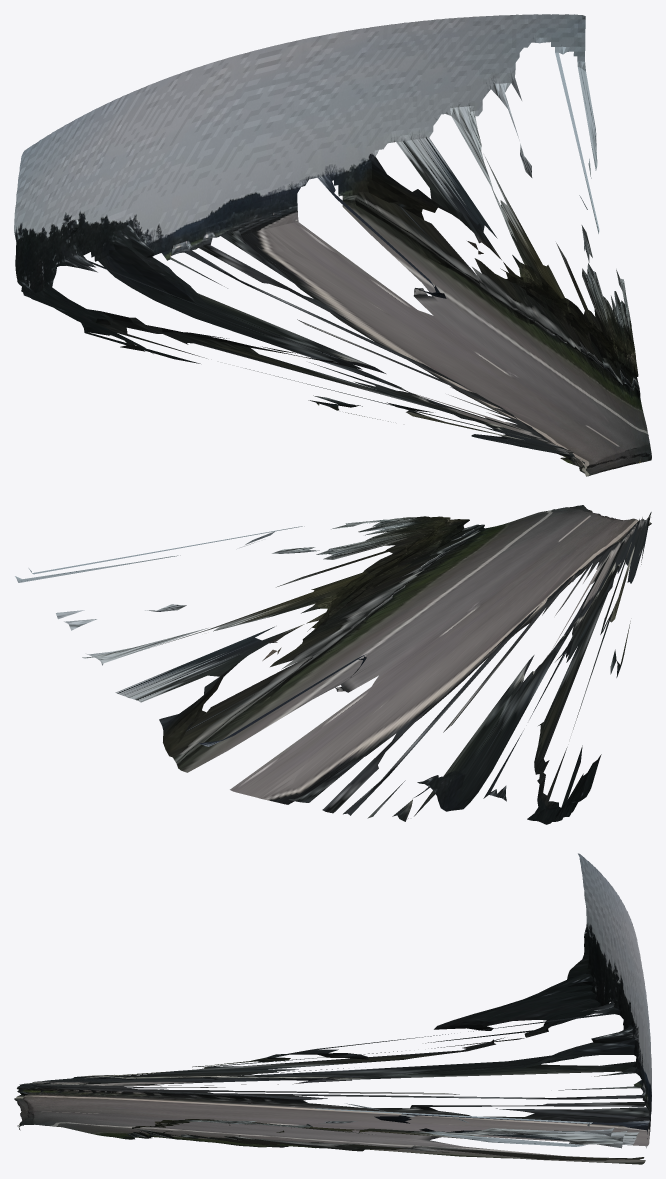
3 views of the same model, one above another, from view 1: azimuth 30°, elevation 25°; view 2: azimuth 150°, elevation 25°; view 3: azimuth 270°, elevation 25° (orthographic). The views are drawn at different scales.
Visible parts, largest first — view 1: defaultobject; view 2: defaultobject; view 3: defaultobject.
Boxes of the visible parts, x1,y1,x2,y2 form: defaultobject: (14, 14, 651, 476); defaultobject: (15, 505, 651, 824); defaultobject: (14, 853, 651, 1164).
Size of the model in its own units: 40.98 by 13.04 by 44.57.
1 material, 1 textured.
